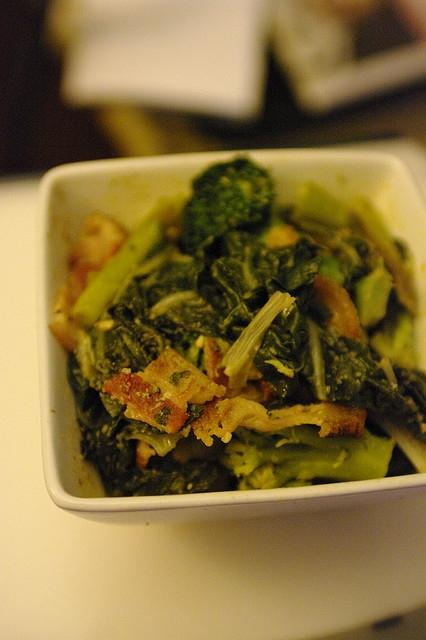broccoli: (71, 195, 176, 327), (221, 426, 394, 490), (174, 159, 276, 256), (215, 291, 296, 389), (108, 280, 170, 358), (130, 458, 236, 496), (344, 256, 396, 328), (256, 245, 324, 292)
